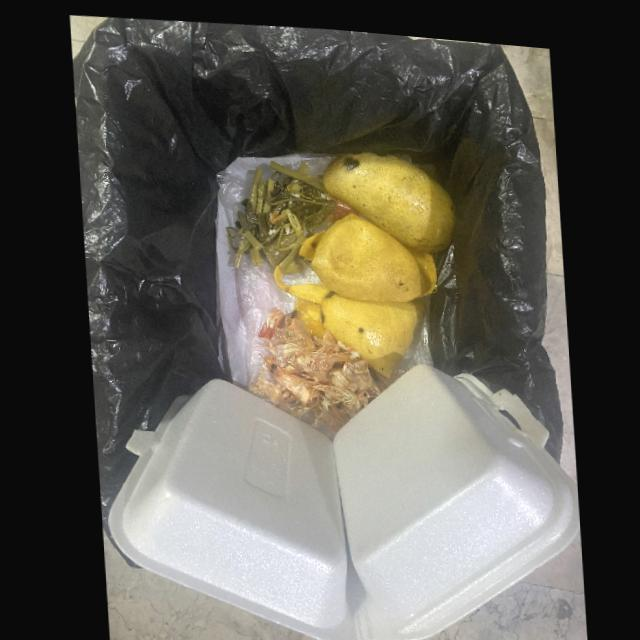biowaste: (246, 303, 379, 434), (271, 259, 424, 370), (224, 156, 351, 263), (321, 144, 454, 244), (297, 207, 436, 294)
styrofoam: (103, 355, 577, 640)
